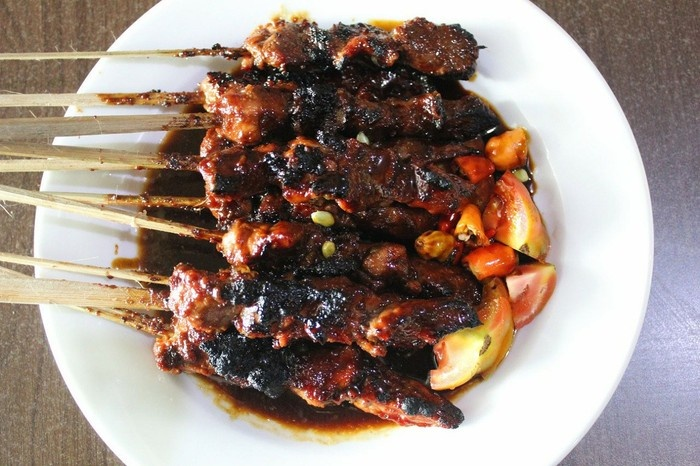sate_madura: (1, 21, 478, 429)
